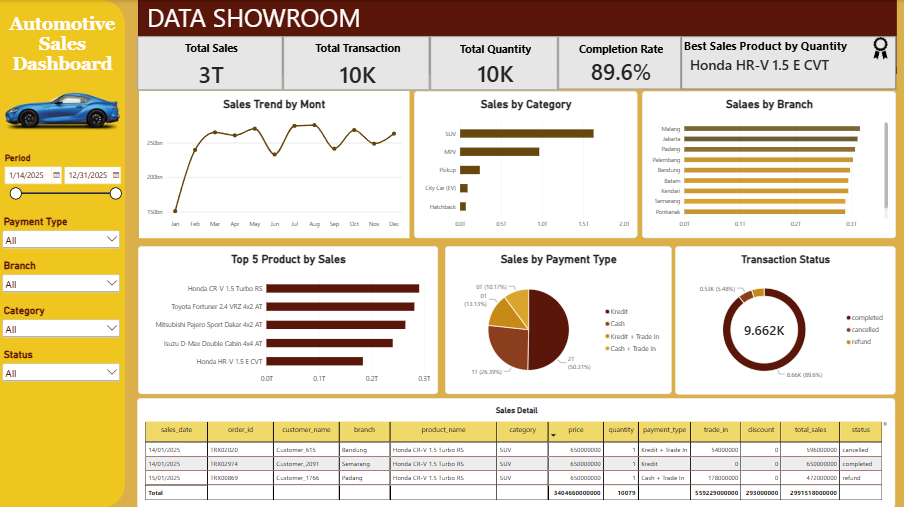

This screenshot's page, from the dashboard's own definition file:
{"tool":"powerbi","page":{"name":"Page 1","canvas":[1920,1080],"ordinal":0},"visuals":[{"type":"shape","box":[292.9,0,1612.9,157.1],"z":0},{"type":"cardVisual","fields":{"Data":["Sheet1.Total Transaction"]},"box":[602,76,312,116],"z":1000},{"type":"cardVisual","title":"Total Quantity","fields":{"Data":["Sum(Sheet1.quantity)"]},"box":[914,76,272,116],"z":2000},{"type":"cardVisual","fields":{"Data":["Sheet1.%Completion Rate"]},"box":[1186.7,76.7,262.5,114.2],"z":3000},{"type":"cardVisual","title":"Total Sales","fields":{"Data":["Sheet1.Best Product 2"]},"box":[1448,76,458,114],"z":4000},{"type":"barChart","title":"Sales by Category","fields":{"Category":["Sheet1.category"],"Y":["Sum(Sheet1.total_sales)"]},"box":[880,192.5,475,312.5],"z":5000},{"type":"barChart","title":"Salaes by Branch","fields":{"Category":["Sheet1.branch"],"Y":["Sum(Sheet1.total_sales)"]},"box":[1365,192.5,540,312.5],"z":6000},{"type":"barChart","title":"Top 5 Product by Sales","fields":{"Category":["Sheet1.product_name"],"Y":["Sum(Sheet1.total_sales)"]},"box":[292.5,522.5,638.3,315],"z":7000},{"type":"lineChart","title":"Sales Trend by Mont","fields":{"Category":["Sheet1.Month Short"],"Y":["Sum(Sheet1.total_sales)"]},"box":[295,192.5,575,312.5],"z":8000},{"type":"pieChart","title":"Sales by Payment Type","fields":{"Category":["Sheet1.payment_type"],"Y":["Sum(Sheet1.total_sales)"]},"box":[945,522.5,481.7,315],"z":9000},{"type":"donutChart","title":"Transaction Status","fields":{"Category":["Sheet1.status"],"Y":["CountNonNull(Sheet1.order_id)"]},"box":[1435,522.5,468.6,315.7],"z":10000},{"type":"shape","box":[0,0,265.7,1080],"z":11000},{"type":"slicer","fields":{"Values":["Sheet1.sales_date"]},"box":[2.5,325,260,146],"z":12000},{"type":"slicer","fields":{"Values":["Sheet1.branch"]},"box":[0,552.5,260,94],"z":13000},{"type":"slicer","fields":{"Values":["Sheet1.status"]},"box":[0,742.5,260,94],"z":14000},{"type":"slicer","fields":{"Values":["Sheet1.payment_type"]},"box":[0,460,260,92],"z":15000},{"type":"slicer","fields":{"Values":["Sheet1.category"]},"box":[0,647.5,260,94],"z":16000},{"type":"textbox","box":[312.5,0,530,110],"z":17000},{"type":"textbox","box":[0,30,265,127.5],"z":18000},{"type":"image","box":[0,157.5,265,167.5],"z":19000},{"type":"cardVisual","fields":{"Data":["Sum(Sheet1.total_sales)"]},"box":[292,76,310,116],"z":20000},{"type":"image","box":[1824,78,96,48],"z":21000},{"type":"textbox","box":[1453.3,80,372,46],"z":22000},{"type":"tableEx","title":"Sales Detail","fields":{"Values":["Sheet1.sales_date","Sheet1.order_id","Sheet1.customer_name","Sheet1.branch","Sheet1.product_name","Sheet1.category","Sum(Sheet1.price)","Sum(Sheet1.quantity)","Sheet1.payment_type","Sum(Sheet1.trade_in)","Sum(Sheet1.discount)","Sum(Sheet1.total_sales)"]},"box":[292,846,1612,234],"z":23000}]}

Visuals, with their boxes in screenshot pixels (x1, y1, x2, y2), scaled from the page's 1920x1080 canvas onto the 904x507 screenshot:
shape: [138, 0, 897, 74]
cardVisual - Sheet1.Total Transaction: [283, 36, 430, 90]
"Total Quantity" cardVisual: [430, 36, 558, 90]
cardVisual - Sheet1.%Completion Rate: [559, 36, 682, 90]
"Total Sales" cardVisual: [682, 36, 897, 89]
"Sales by Category" barChart: [414, 90, 638, 237]
"Salaes by Branch" barChart: [643, 90, 897, 237]
"Top 5 Product by Sales" barChart: [138, 245, 438, 393]
"Sales Trend by Mont" lineChart: [139, 90, 410, 237]
"Sales by Payment Type" pieChart: [445, 245, 672, 393]
"Transaction Status" donutChart: [676, 245, 896, 393]
shape: [0, 0, 125, 506]
slicer - Sheet1.sales_date: [1, 153, 124, 221]
slicer - Sheet1.branch: [0, 259, 122, 303]
slicer - Sheet1.status: [0, 349, 122, 393]
slicer - Sheet1.payment_type: [0, 216, 122, 259]
slicer - Sheet1.category: [0, 304, 122, 348]
textbox: [147, 0, 397, 52]
textbox: [0, 14, 125, 74]
image: [0, 74, 125, 153]
cardVisual - Sum(Sheet1.total_sales): [137, 36, 283, 90]
image: [859, 37, 903, 59]
textbox: [684, 38, 859, 59]
"Sales Detail" tableEx: [137, 397, 896, 506]
